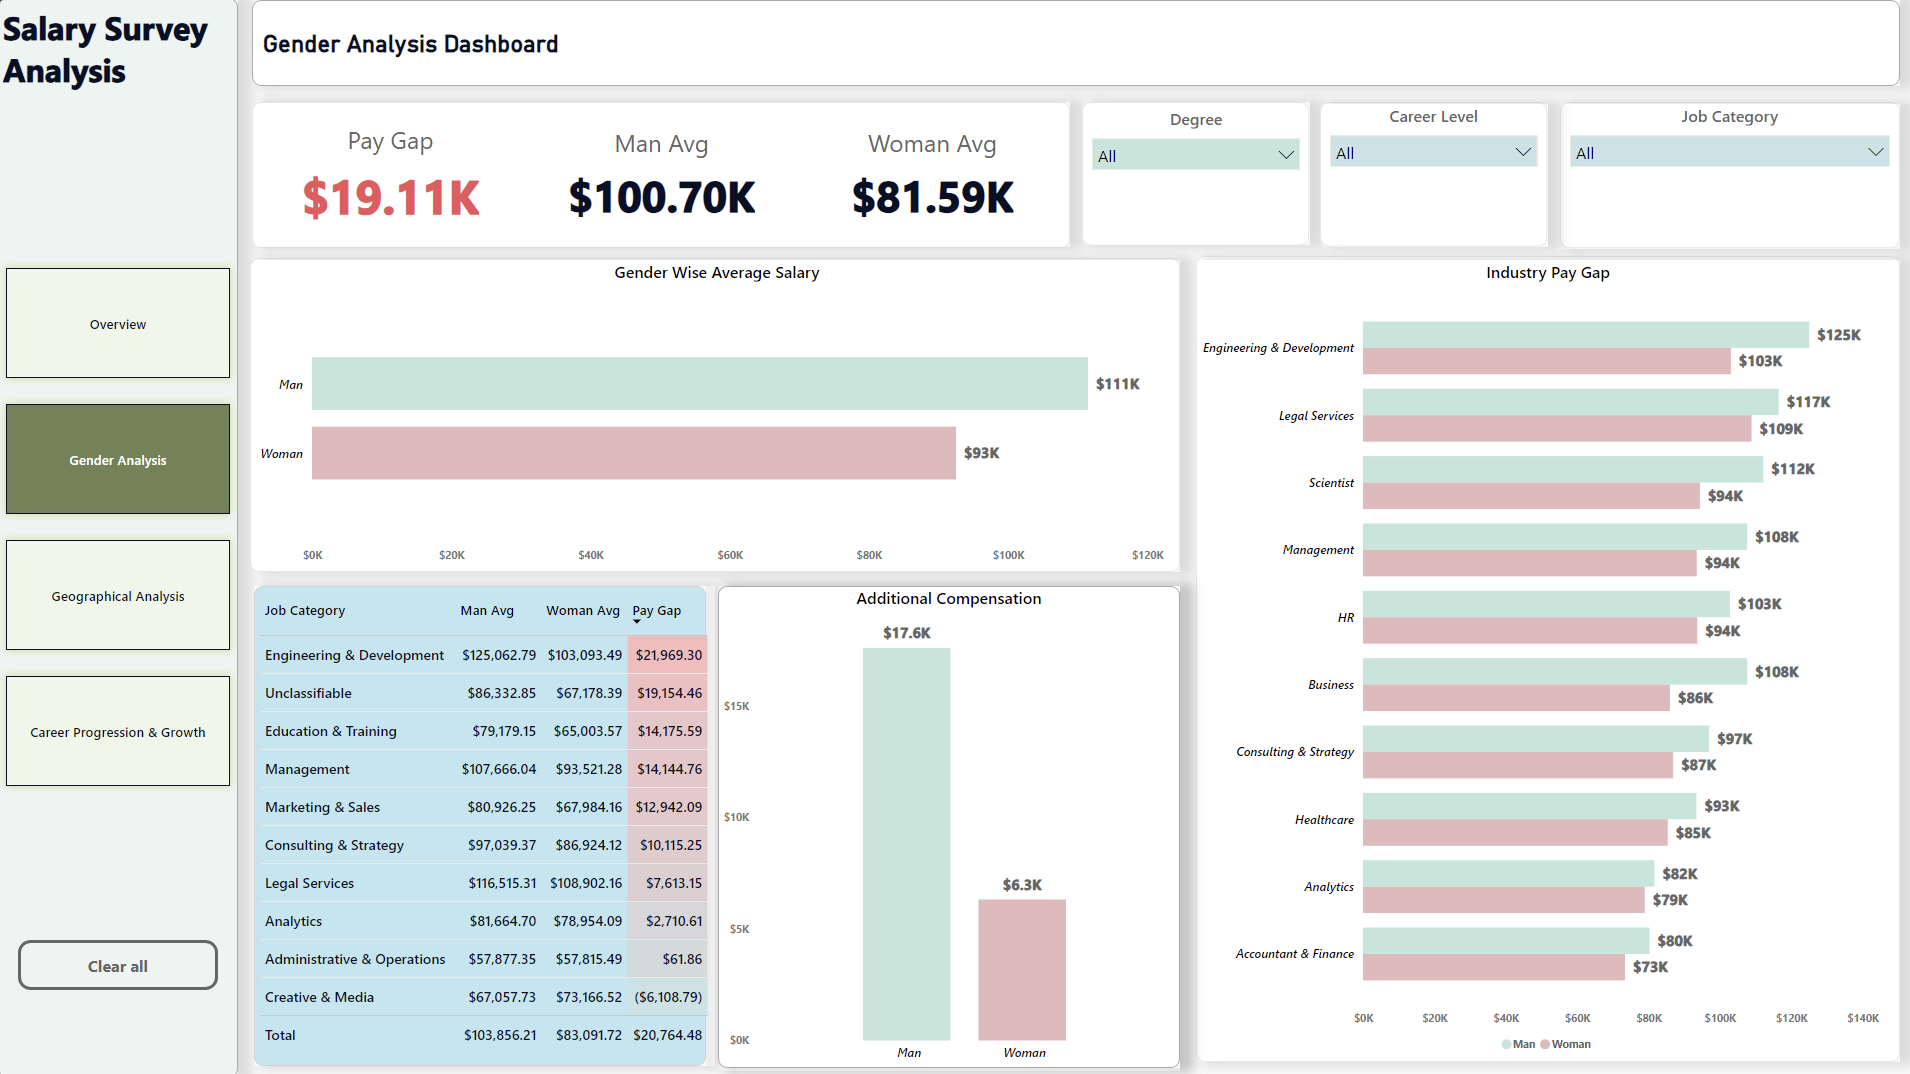

The page's visual inventory and layout, read from the dashboard file:
{"tool":"powerbi","page":{"name":"Gender Analysis","canvas":[1920,1080],"ordinal":1},"visuals":[{"type":"shape","box":[0,0,240,1080],"z":0},{"type":"shape","box":[256,588,452,480],"z":1000},{"type":"shape","box":[253.6,103.6,818.2,146.4],"z":2000},{"type":"shape","box":[252,260,930,314],"z":3000},{"type":"shape","box":[254,2,1648,86],"z":4000},{"type":"textbox","box":[260,25,457.5,62.5],"z":5000},{"type":"cardVisual","fields":{"Data":["project_cleaned_v2 0.Pay Gap","project_cleaned_v2 0.Man Avg","project_cleaned_v2 0.Woman Avg"]},"box":[256.4,103.6,815.5,144.5],"z":6000},{"type":"clusteredBarChart","title":"Gender Wise Average Salary","fields":{"Y":["Avg(project_cleaned_v2 0.annual_salary_usd)"],"Category":["project_cleaned_v2 0.gender"]},"box":[256,262,926,312],"z":7000},{"type":"shape","box":[1198,258,704,806],"z":8000},{"type":"clusteredBarChart","title":"Industry Pay Gap","fields":{"Y":["Avg(project_cleaned_v2 0.annual_salary_usd)"],"Category":["project_cleaned_v2 0.job_category"],"Series":["project_cleaned_v2 0.gender"]},"box":[1198,262,704,802],"z":9000},{"type":"shape","box":[720,588,462,482],"z":10000},{"type":"clusteredColumnChart","title":"Additional Compensation ","fields":{"Category":["project_cleaned_v2 0.gender"],"Y":["Avg(project_cleaned_v2 0.compensation_usd)"]},"box":[720,588.2,461.8,484.5],"z":11000},{"type":"shape","box":[1084.5,103.6,227.3,143.6],"z":12000},{"type":"slicer","title":"Degree","fields":{"Values":["project_cleaned_v2 0.degree"]},"box":[1084.5,104.5,228.2,142.7],"z":13000},{"type":"tableEx","fields":{"Values":["project_cleaned_v2 0.job_category","project_cleaned_v2 0.Man Avg","project_cleaned_v2 0.Woman Avg","project_cleaned_v2 0.Pay Gap"]},"box":[255.8,588.3,460.8,480],"z":15000},{"type":"shape","box":[1562.7,103.6,340,146.4],"z":16000},{"type":"shape","box":[1322.7,103.6,227.3,144.5],"z":17000},{"type":"slicer","title":"Job Category","fields":{"Values":["project_cleaned_v2 0.job_category"]},"box":[1562.7,105.5,340,144.5],"z":18000},{"type":"slicer","title":"Career Level","fields":{"Values":["project_cleaned_v2 0.career_level"]},"box":[1322.7,105.5,227.3,142.7],"z":19000},{"type":"pageNavigator","box":[0,262.5,240,537.5],"z":19001},{"type":"textbox","box":[0,2.5,240,132.5],"z":19002},{"type":"actionButton","box":[20,942.5,200,50],"z":19003}]}

Visuals, with their boxes on the page's 1920x1080 design canvas (x1, y1, x2, y2). These are canvas units, not pixel positions in the 1910x1074 screenshot, which may show the page scaled, cropped or inside an application window:
shape: BBox(0, 0, 240, 1080)
shape: BBox(256, 588, 708, 1068)
shape: BBox(254, 104, 1072, 250)
shape: BBox(252, 260, 1182, 574)
shape: BBox(254, 2, 1902, 88)
textbox: BBox(260, 25, 718, 88)
cardVisual - project_cleaned_v2 0.Pay Gap x project_cleaned_v2 0.Man Avg: BBox(256, 104, 1072, 248)
"Gender Wise Average Salary" clusteredBarChart: BBox(256, 262, 1182, 574)
shape: BBox(1198, 258, 1902, 1064)
"Industry Pay Gap" clusteredBarChart: BBox(1198, 262, 1902, 1064)
shape: BBox(720, 588, 1182, 1070)
"Additional Compensation " clusteredColumnChart: BBox(720, 588, 1182, 1073)
shape: BBox(1084, 104, 1312, 247)
"Degree" slicer: BBox(1084, 104, 1313, 247)
tableEx - project_cleaned_v2 0.job_category x project_cleaned_v2 0.Man Avg: BBox(256, 588, 717, 1068)
shape: BBox(1563, 104, 1903, 250)
shape: BBox(1323, 104, 1550, 248)
"Job Category" slicer: BBox(1563, 106, 1903, 250)
"Career Level" slicer: BBox(1323, 106, 1550, 248)
pageNavigator: BBox(0, 262, 240, 800)
textbox: BBox(0, 2, 240, 135)
actionButton: BBox(20, 942, 220, 992)
